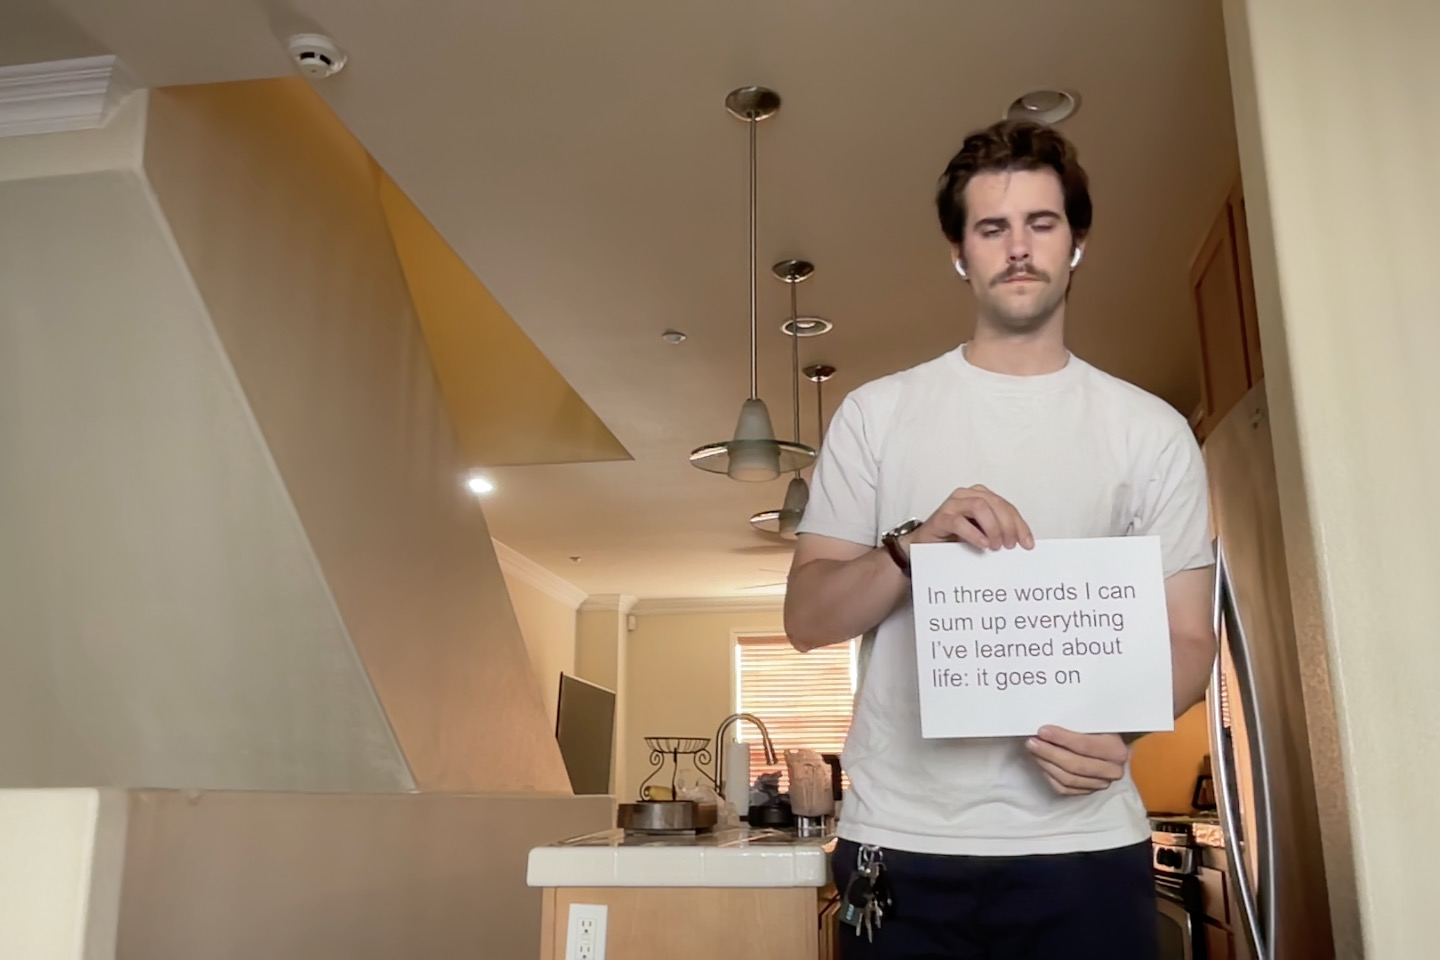phrase: (925, 577, 1141, 692)
